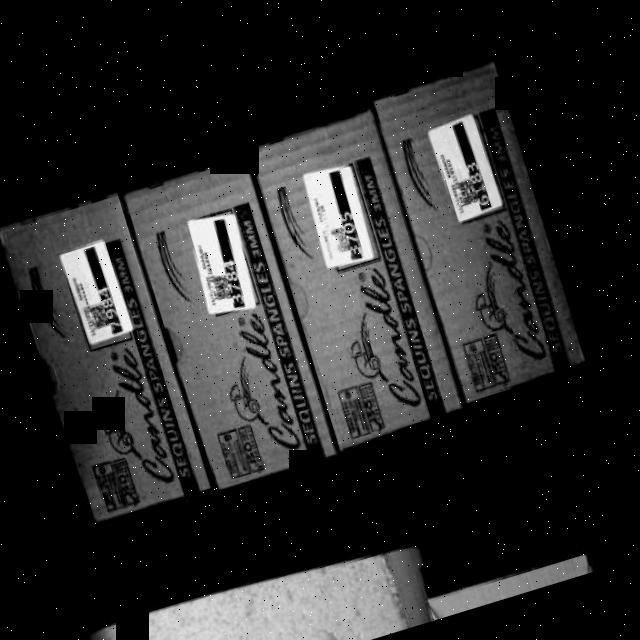box: (125, 162, 338, 492), (4, 192, 212, 524), (382, 68, 587, 399), (255, 120, 464, 443)
